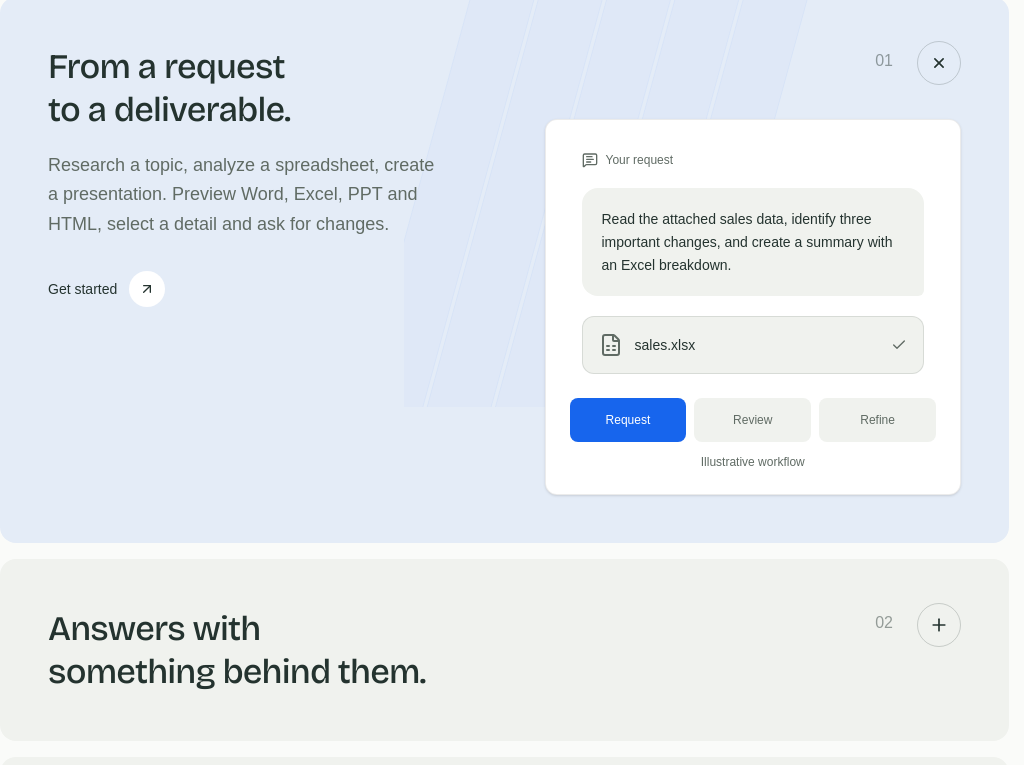
keeps product disclosures and workflow steps usable with reduced motion
Check: the heading "From a request to a deliverable." is shown, box x1=48 y1=46 x2=290 y2=130
Click the button named "Answers with something behind them.". click: point(939, 625)
box: x1=917 y1=603 x2=961 y2=647
(page scrolled)
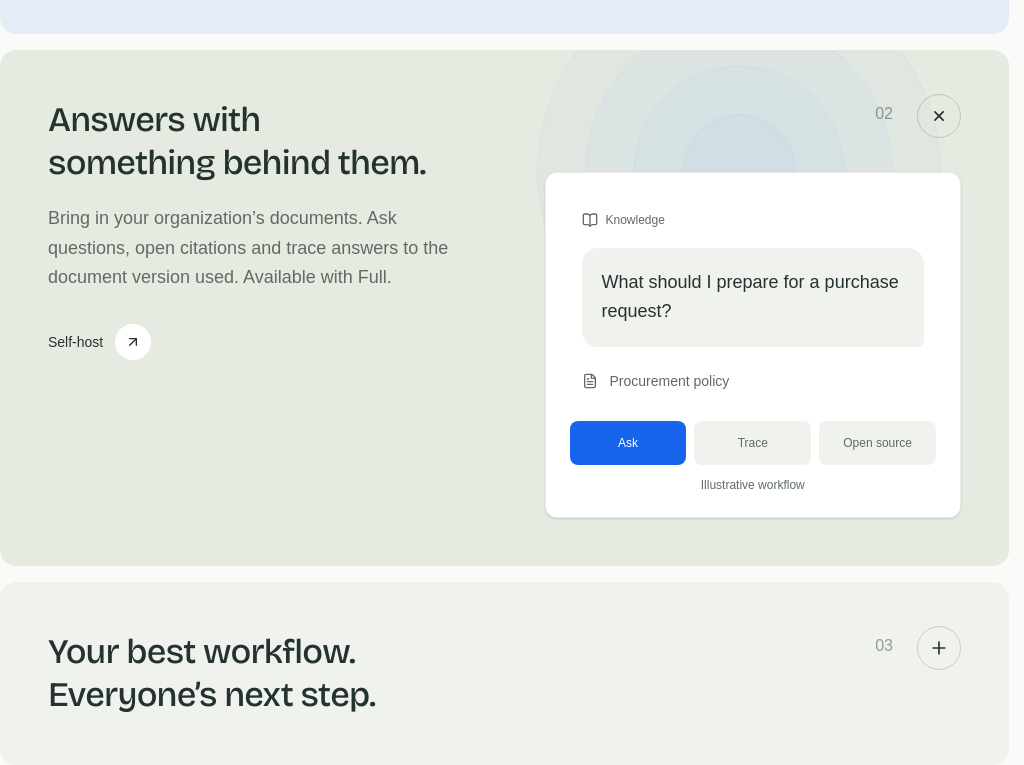
Check: the button named "Answers with something behind them." is expanded, box x1=917 y1=94 x2=961 y2=138
Click the button "Open source". click: point(878, 443)
box: x1=819 y1=421 x2=936 y2=465
(page scrolled)
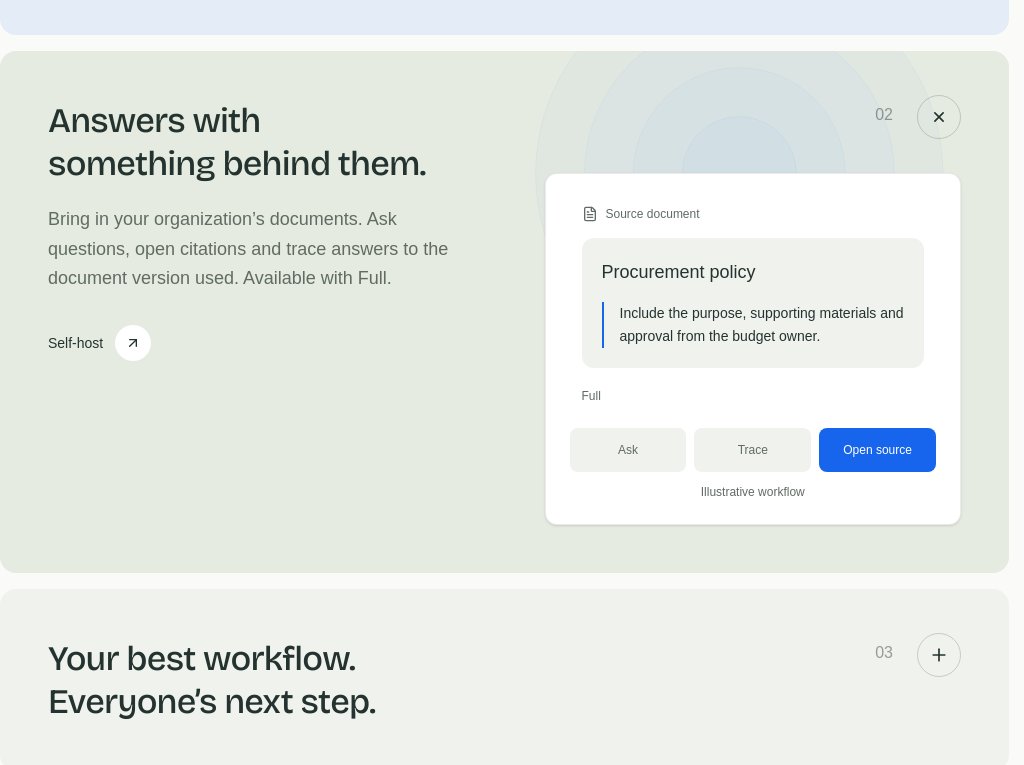
Check: the text "Include the purpose, supporting materials and approval from the budget owner." is shown, box x1=602 y1=302 x2=904 y2=348
Click the button named "Answers with something behind them.". click: point(939, 117)
box: x1=917 y1=95 x2=961 y2=139
(page scrolled)
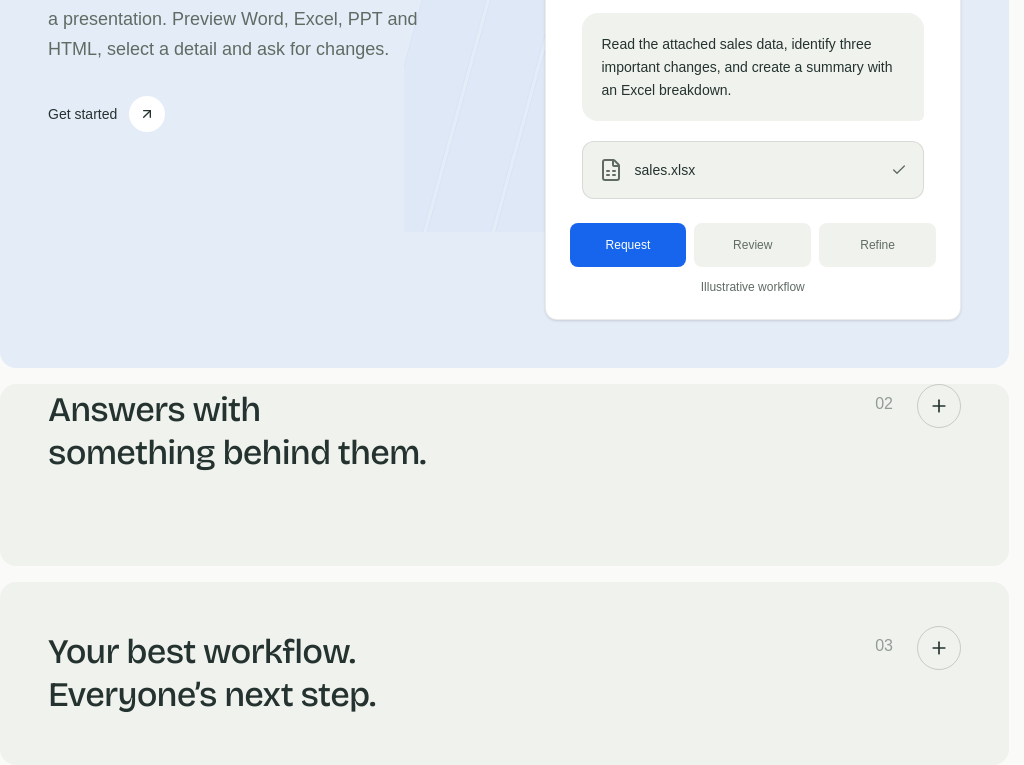
Check: the button named "Answers with something behind them." is collapsed, box x1=917 y1=384 x2=961 y2=428
